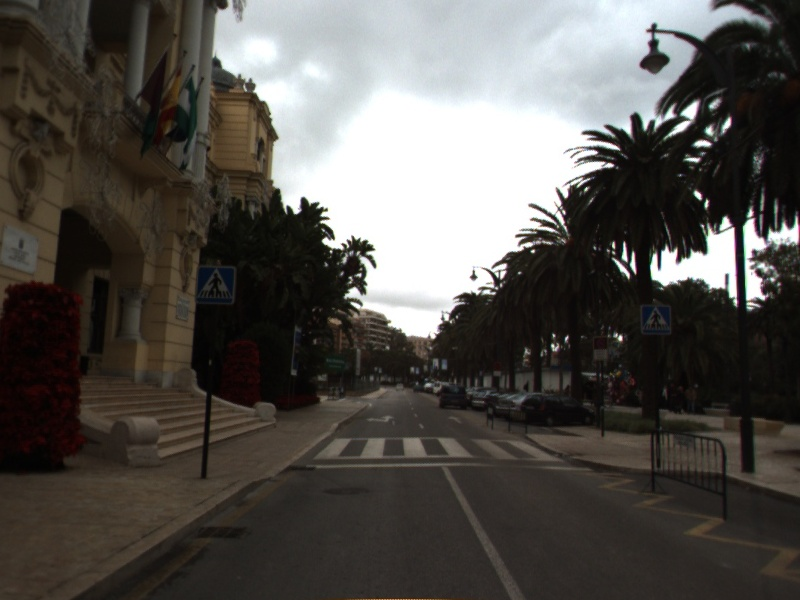STRAIGHT: (445, 413, 466, 426)
STRAIGHT_LEFT: (363, 412, 398, 425)
